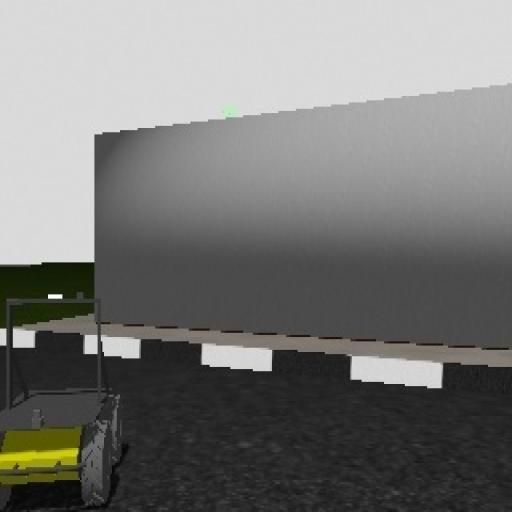huskya200: (1, 283, 128, 512)
